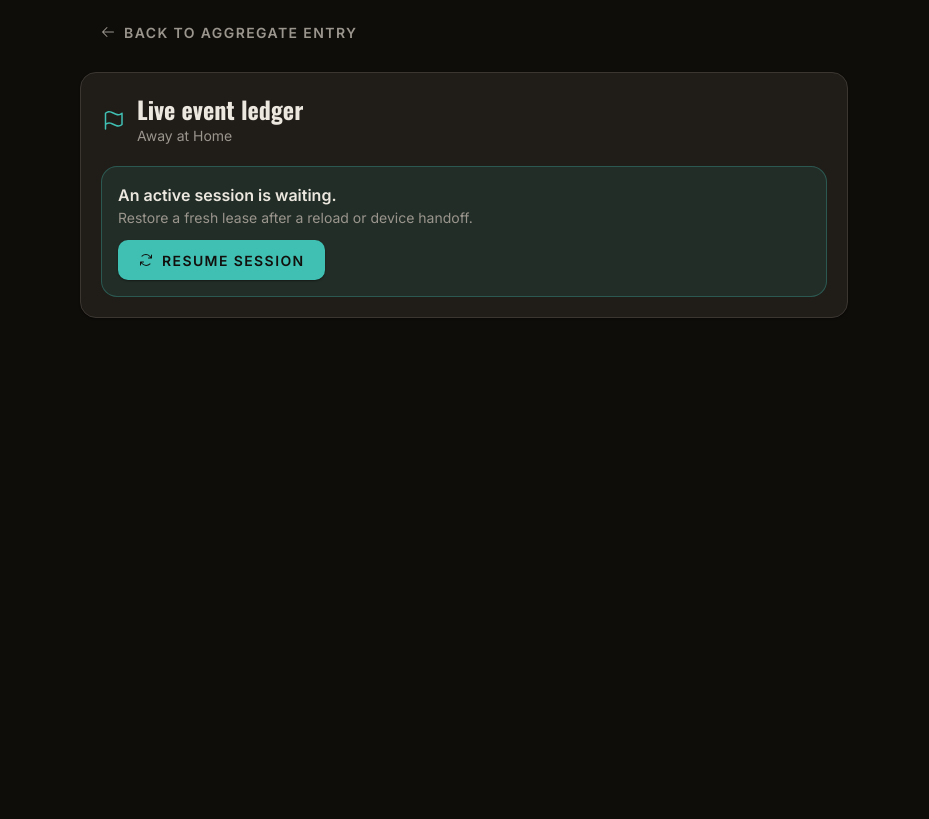
Test: LedgerScorekeeper › restores a fresh lease for an active session after reload
Click the button "Resume session".
click(221, 260)  # box [118,240,325,280]
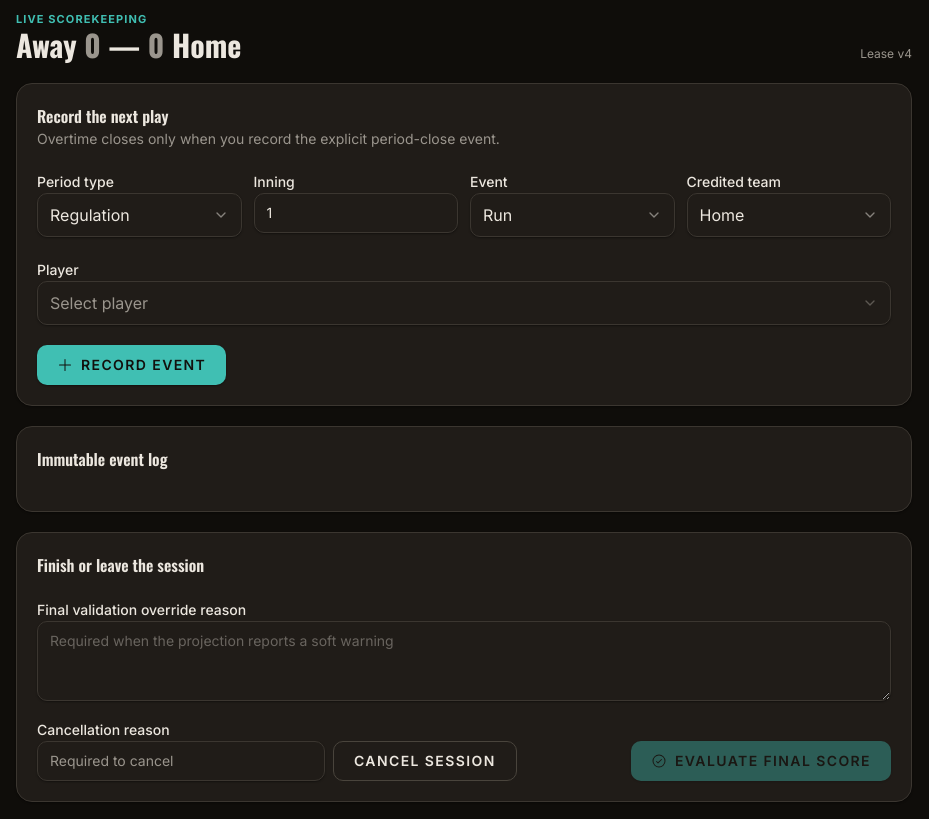
expect the text "Lease v4" is shown: met, box [860,46,912,63]
